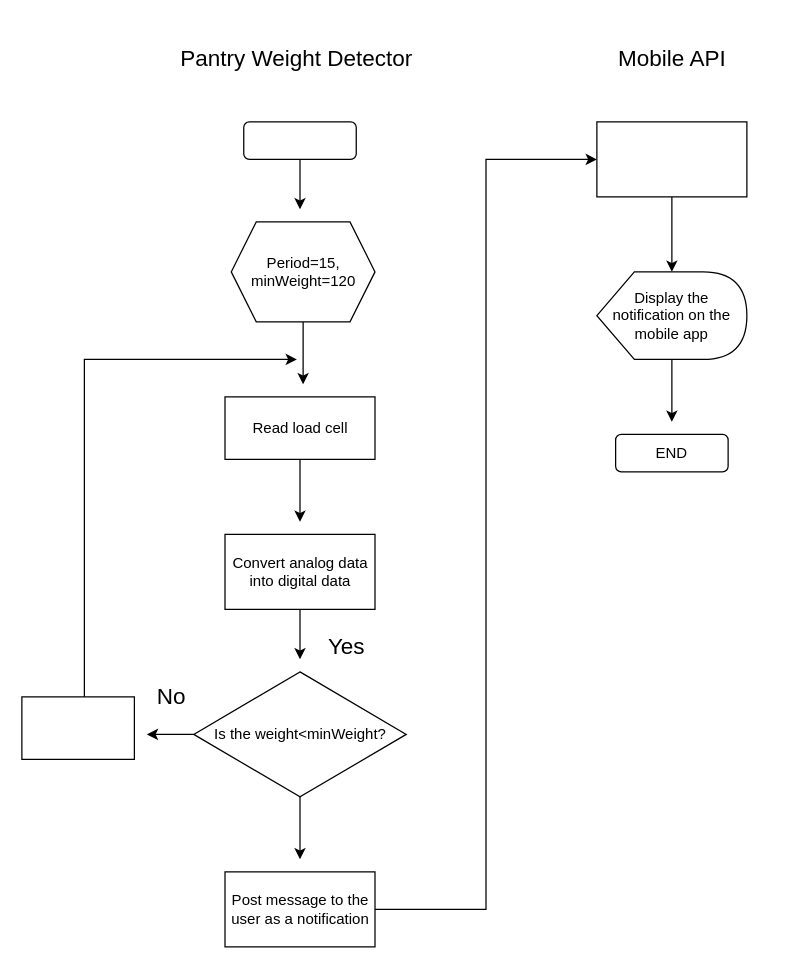
This 795x969 diagram has some shape labels left out. Each missing label, with the centre of its shape:
"Delay Period" goes at point (77, 727).
"Get message from the microprocessor" goes at point (671, 159).
"START" goes at point (299, 140).
